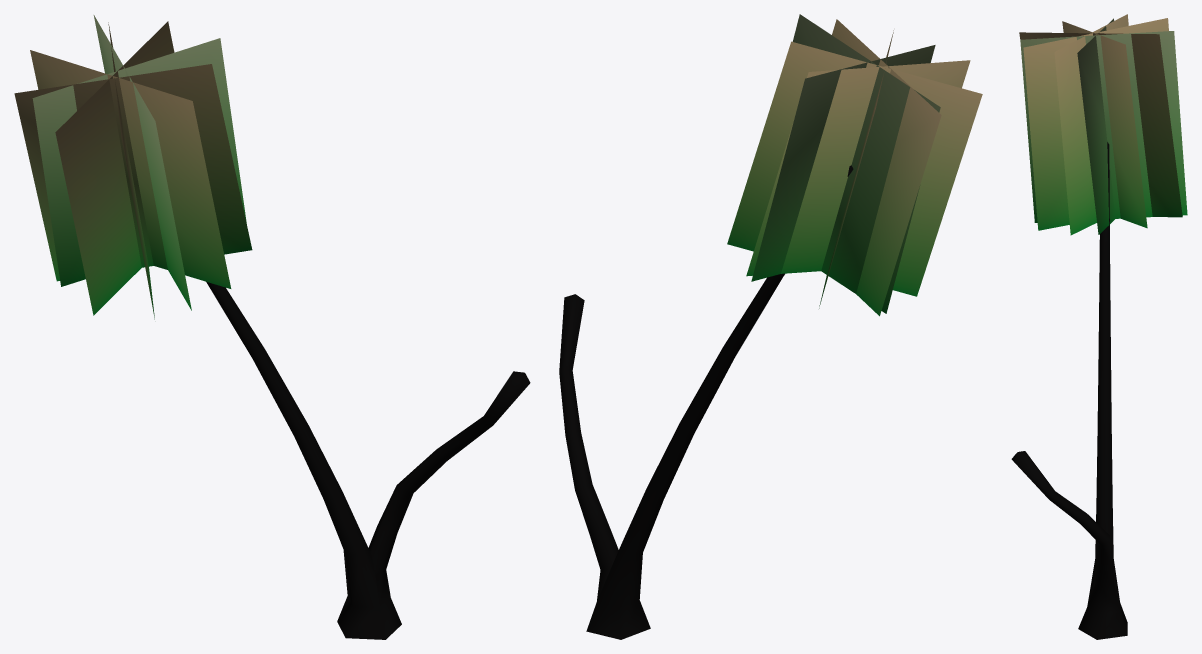
The model's file is Super_Palm_20.fbx.
3 views of the same model, side by side, from view 1: azimuth 30°, elevation 25°; view 2: azimuth 150°, elevation 25°; view 3: azimuth 270°, elevation 25° (orthographic). The views are drawn at different scales.
Visible parts, largest first — view 1: Tree_20; view 2: Tree_20; view 3: Tree_20.
Boxes of the visible parts, box(x1,y1,x2,y2) form: Tree_20: box(14, 15, 530, 639); Tree_20: box(559, 14, 982, 639); Tree_20: box(1011, 14, 1187, 639).
Size of the model in its own units: 1288 by 1776 by 554.
